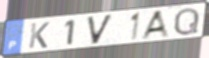1: (129, 10, 144, 42), (63, 19, 77, 46)
A: (140, 9, 173, 40)
K: (27, 21, 52, 49)
Q: (172, 7, 201, 37)
V: (85, 13, 115, 46)
